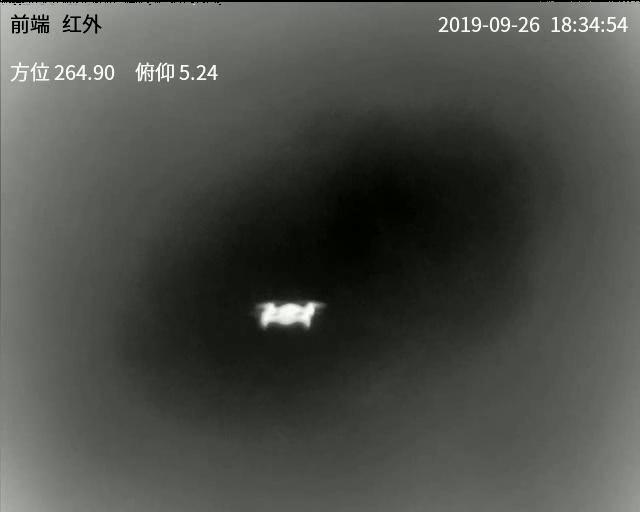DRONE: (258, 300, 321, 331)
